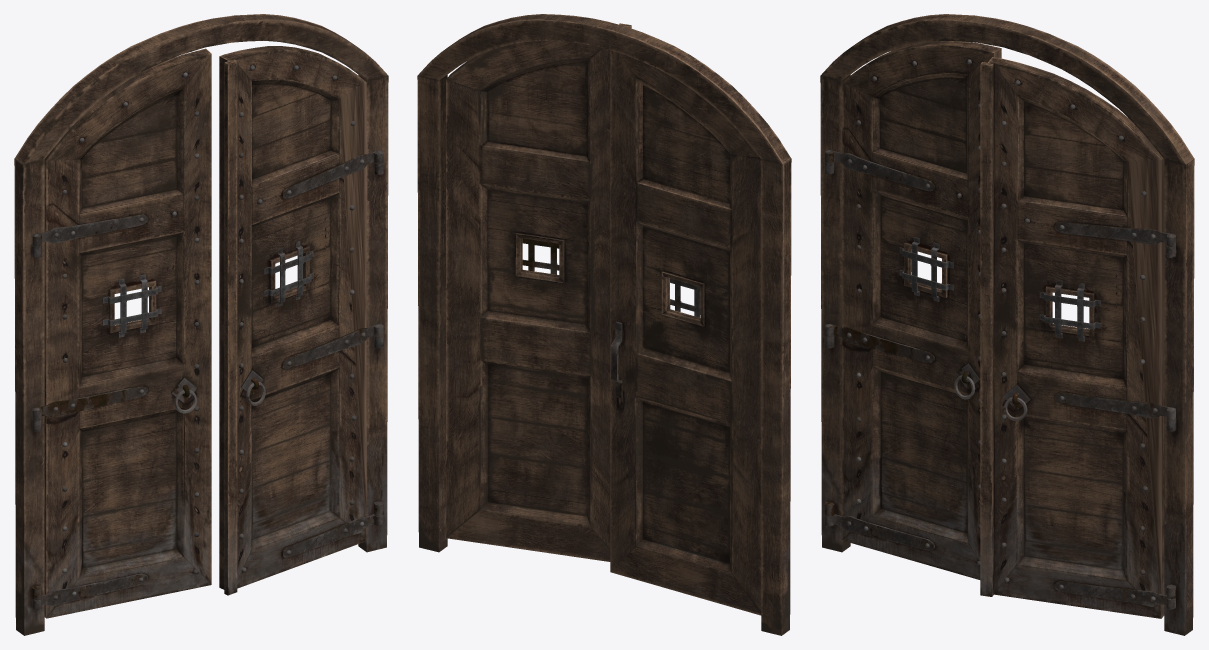
Rendered from large_castle_door.glb.
The picture shows the model from 3 angles, left to right: view 1: azimuth 30°, elevation 25°; view 2: azimuth 150°, elevation 25°; view 3: azimuth 330°, elevation 25°; orthographic projection.
Visible parts, largest first — view 1: large_castle_door_left, large_castle_door_right, large_castle_door_frame; view 2: large_castle_door_right, large_castle_door_left, large_castle_door_frame; view 3: large_castle_door_right, large_castle_door_left, large_castle_door_frame.
Boxes of the visible parts, bbox=[...] form: large_castle_door_left: bbox=[32, 48, 211, 618]; large_castle_door_right: bbox=[219, 46, 383, 595]; large_castle_door_frame: bbox=[14, 14, 388, 635]; large_castle_door_right: bbox=[446, 23, 631, 561]; large_castle_door_left: bbox=[610, 50, 761, 615]; large_castle_door_frame: bbox=[417, 14, 791, 635]; large_castle_door_right: bbox=[980, 57, 1175, 618]; large_castle_door_left: bbox=[824, 41, 1001, 579]; large_castle_door_frame: bbox=[820, 14, 1194, 635].
Size of the model in its own units: 2.01 by 2.96 by 0.2963.
1 material, 1 textured.
